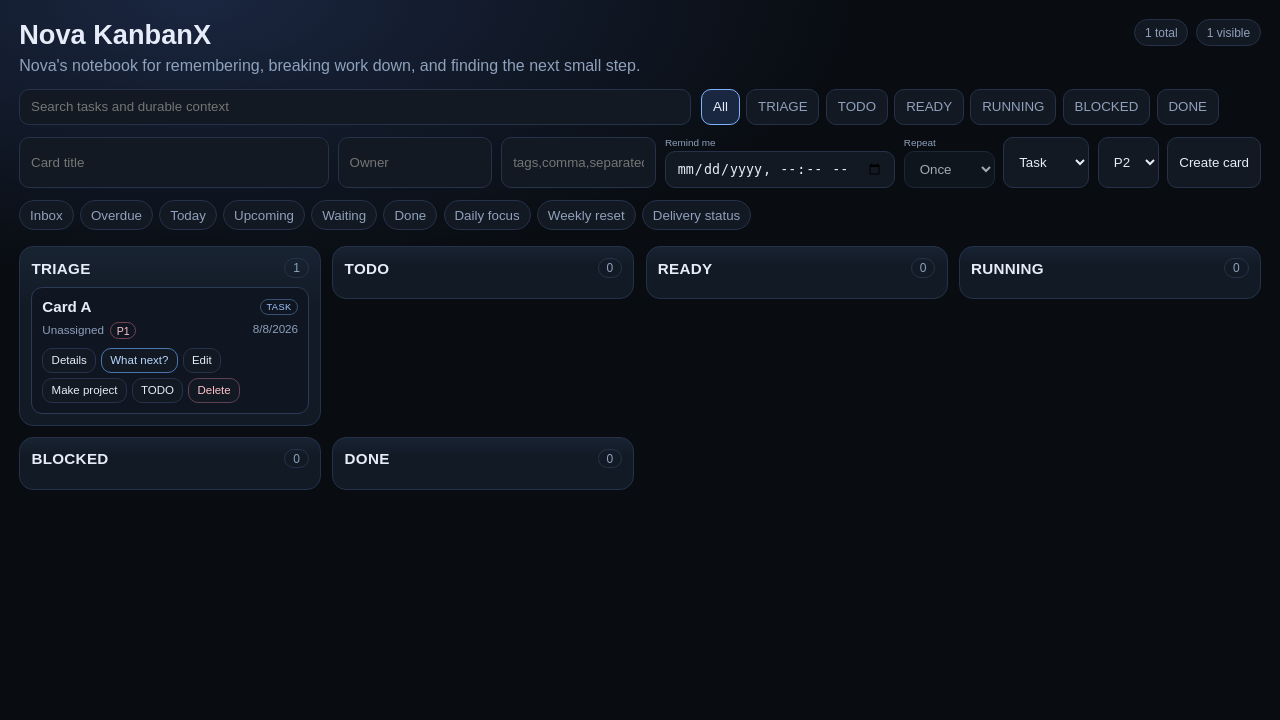
Scenario: App optimistic behavior › offers valid transitions, sends guarded events, and shows move errors
Check: the text "Card A" is shown, box x1=42 y1=298 x2=92 y2=315
Step 1. Click the button "TODO" below "Unassigned" → [157, 390], box x1=132 y1=378 x2=183 y2=403
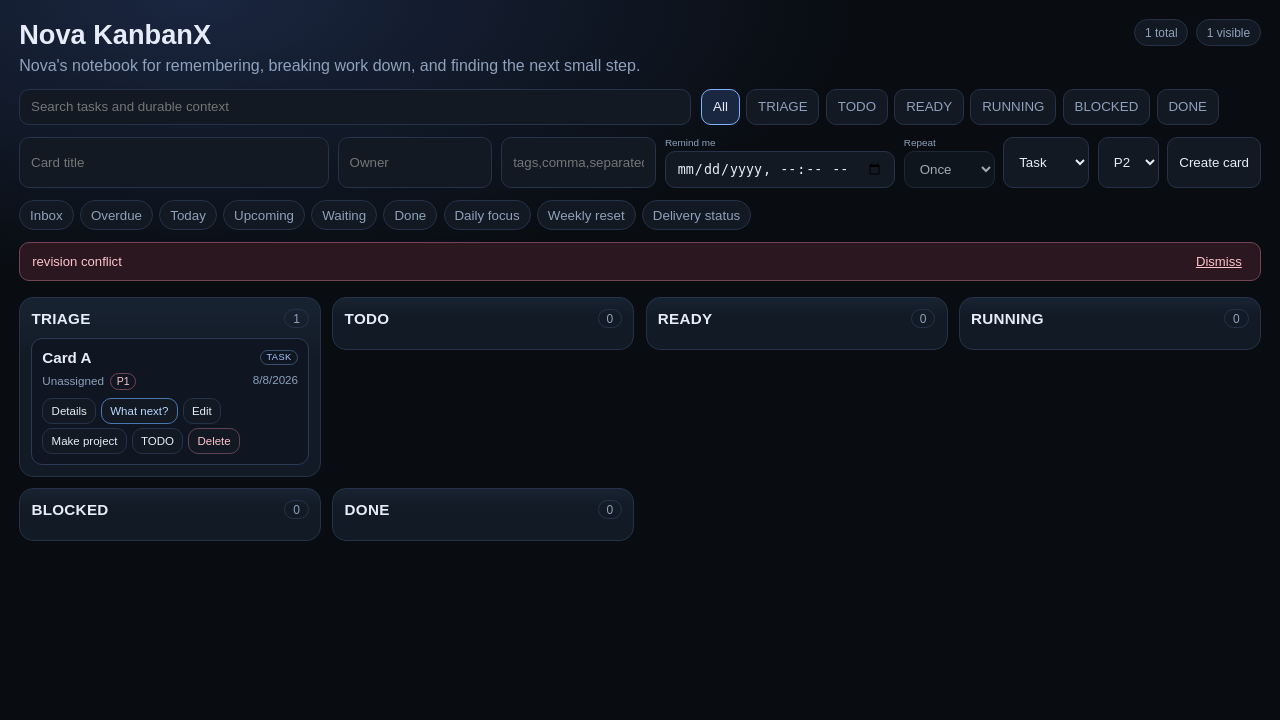
Check: the heading "Card A" is shown, box x1=42 y1=349 x2=92 y2=366
Check: the message shows "revision conflict", box x1=32 y1=254 x2=122 y2=269
